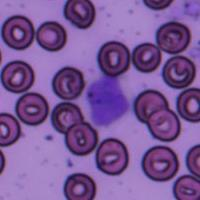M: (82, 75, 130, 128)
